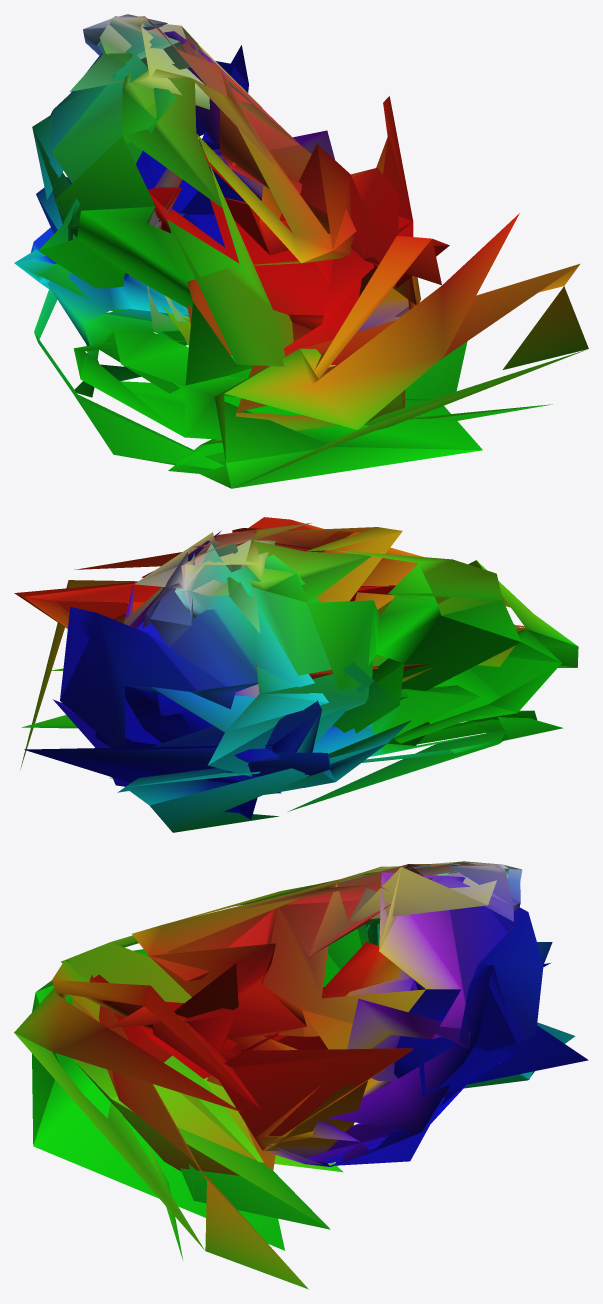
The model's file is zeometry-fragments-ruins-shard-cluster_v12.fbx.
The picture shows the model from 3 angles, top to bottom: view 1: azimuth 30°, elevation 25°; view 2: azimuth 150°, elevation 25°; view 3: azimuth 270°, elevation 25°; orthographic projection. The views are drawn at different scales.
Parts seen in each view (by area): view 1: Shard Cluster_v12; view 2: Shard Cluster_v12; view 3: Shard Cluster_v12.
Part boxes in pixels (x1=…): Shard Cluster_v12: x1=14, y1=14, x2=588, y2=488; Shard Cluster_v12: x1=14, y1=517, x2=578, y2=832; Shard Cluster_v12: x1=14, y1=861, x2=588, y2=1289.
Size of the model in its own units: 0.4527 by 0.3024 by 0.5.
